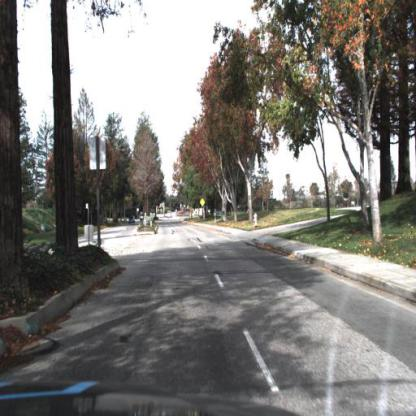car: (129, 216, 135, 224), (167, 210, 172, 218), (140, 213, 144, 221)
